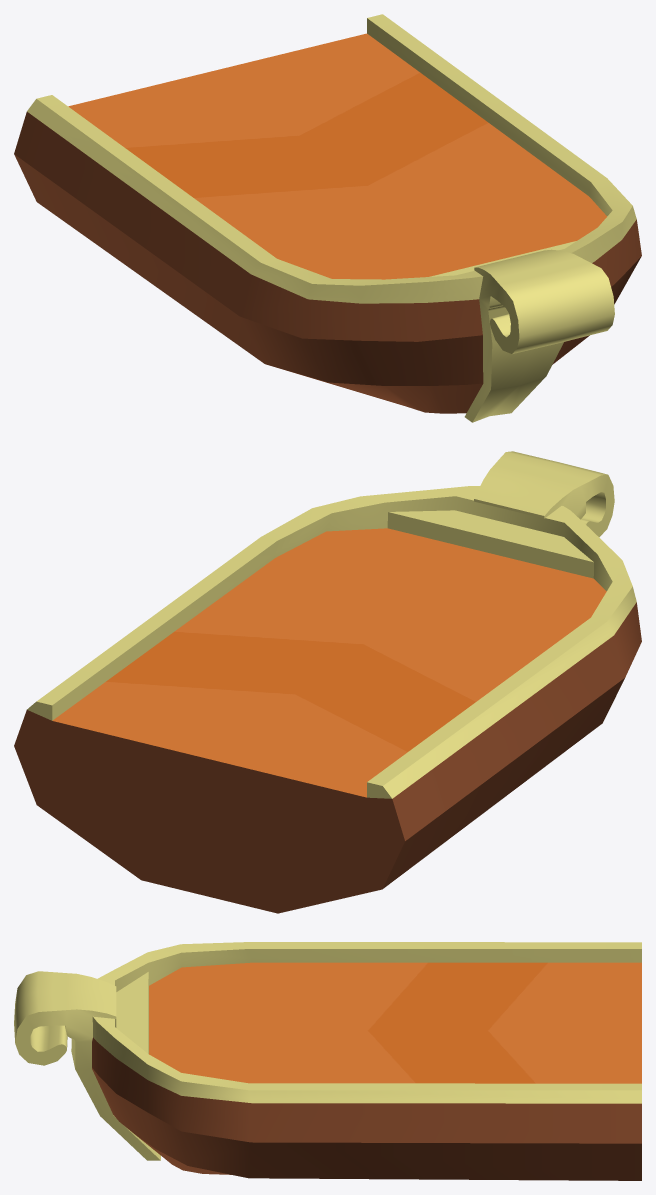
Rendered from gemi_on_parca 1.fbx.
The picture shows the model from 3 angles, top to bottom: view 1: azimuth 30°, elevation 25°; view 2: azimuth 150°, elevation 25°; view 3: azimuth 270°, elevation 25°; orthographic projection. The views are drawn at different scales.
Parts seen in each view (by area): view 1: ön parça; view 2: ön parça; view 3: ön parça.
Boxes of the visible parts, bbox=[...] form: ön parça: bbox=[14, 14, 641, 422]; ön parça: bbox=[14, 451, 641, 913]; ön parça: bbox=[14, 942, 641, 1180].
Size of the model in its own units: 514 by 230 by 815.
Materials: 3 (1 with a texture image).
